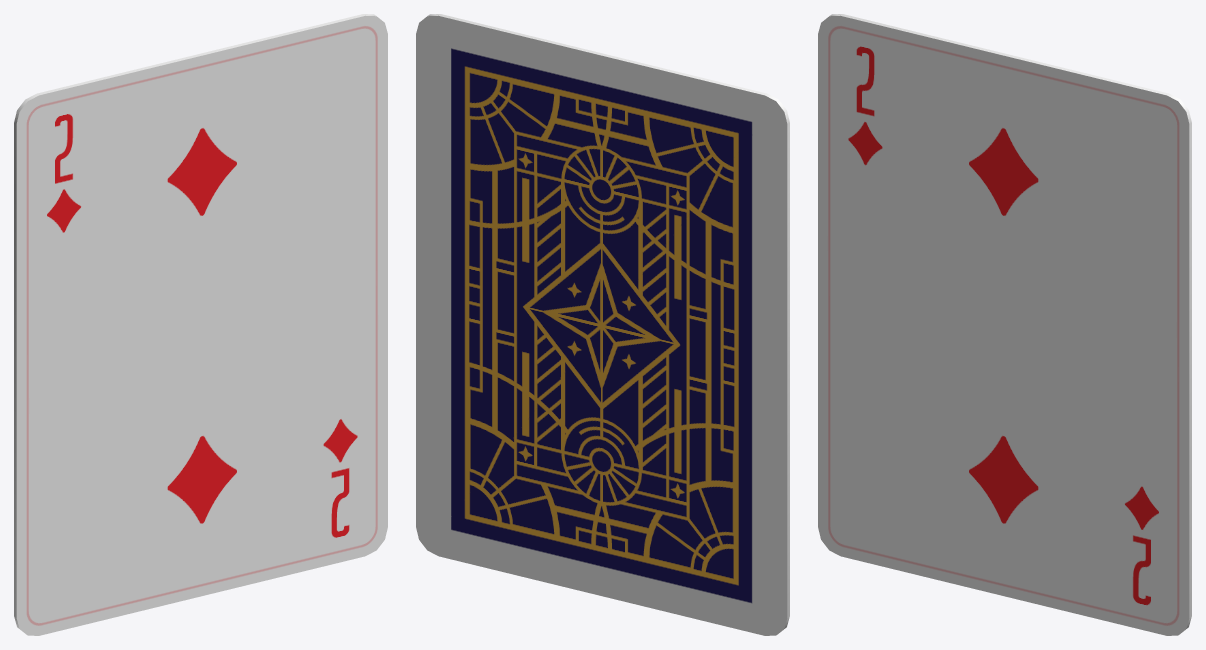
File: card_diamonds_two.obj
The picture shows the model from 3 angles, left to right: view 1: azimuth 30°, elevation 25°; view 2: azimuth 150°, elevation 25°; view 3: azimuth 330°, elevation 25°; orthographic projection.
Visible parts, largest first — view 1: card_diamonds_two; view 2: card_diamonds_two; view 3: card_diamonds_two.
Boxes of the visible parts, bbox=[...] form: card_diamonds_two: bbox=[14, 14, 387, 635]; card_diamonds_two: bbox=[416, 14, 789, 635]; card_diamonds_two: bbox=[818, 14, 1191, 635].
Bounding box in the file's own units: 4.31 × 6 × 0.05.
2 materials, 2 textured.
